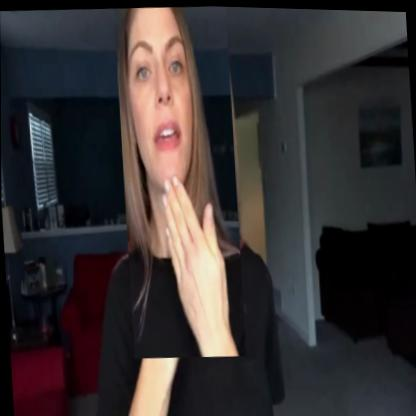ThankYou: (113, 3, 245, 360)
